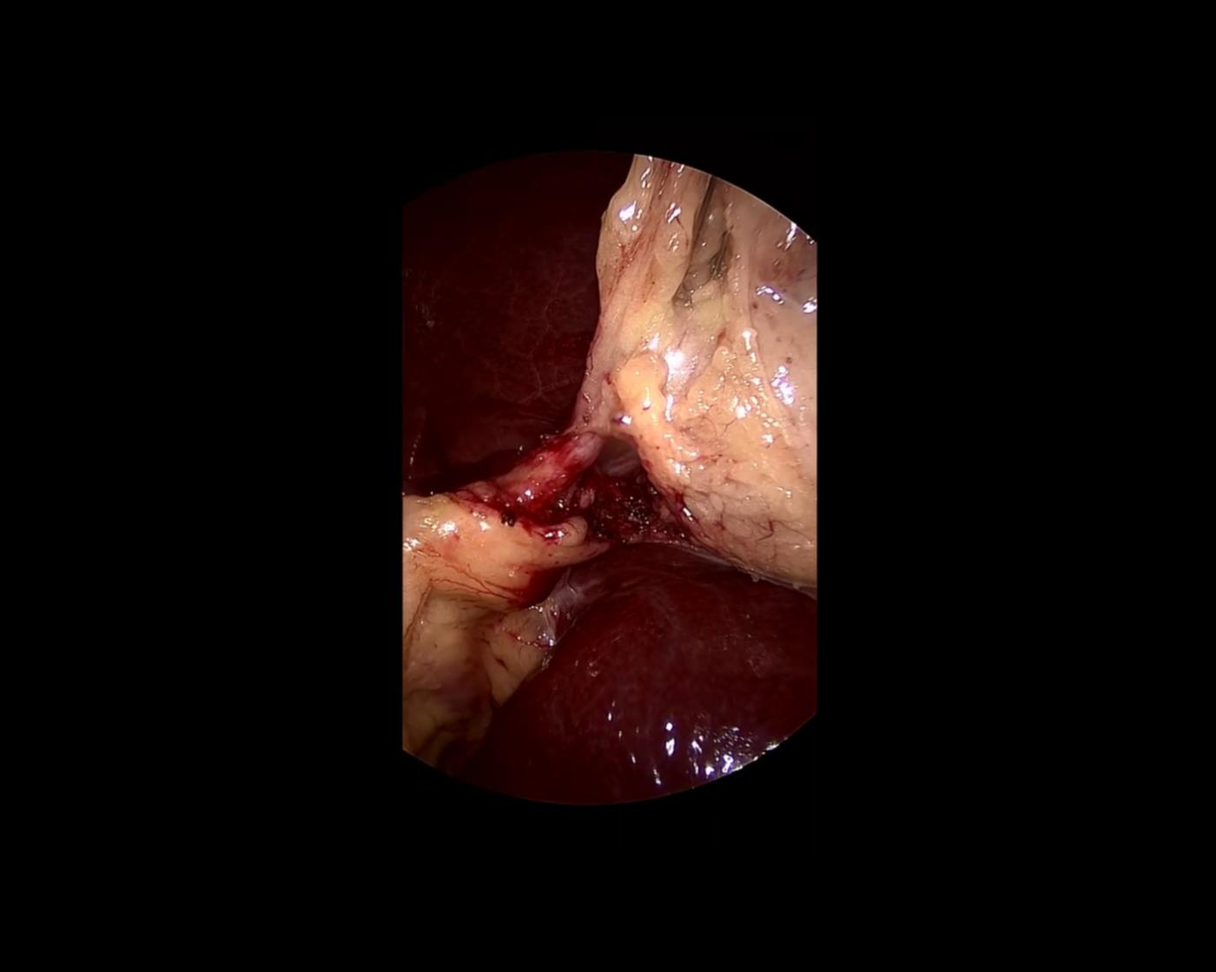Gallbladder: (585, 156, 816, 588)
Liver: (466, 507, 851, 882), (400, 154, 628, 497)
